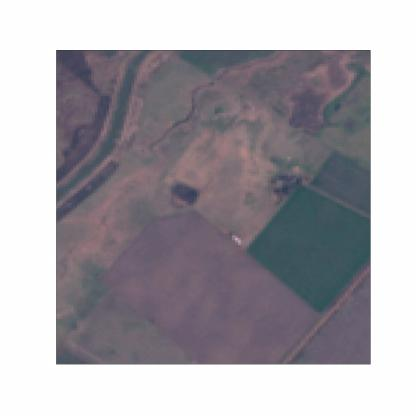silobolsa: (230, 229, 242, 247)
